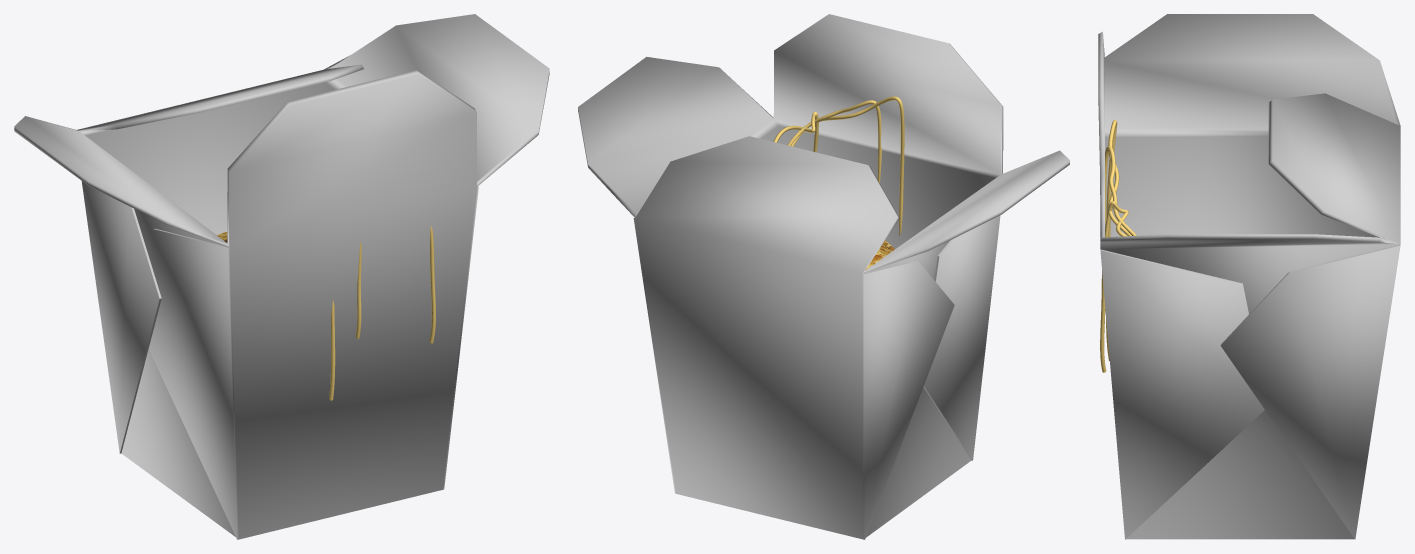
File: NoodleBoxStep.fbx
The picture shows the model from 3 angles, left to right: view 1: azimuth 30°, elevation 25°; view 2: azimuth 150°, elevation 25°; view 3: azimuth 270°, elevation 25°; orthographic projection. The views are drawn at different scales.
Parts seen in each view (by area): view 1: Cube; view 2: Cube, NurbsPath, NurbsPath.001; view 3: Cube, NurbsPath.002, NurbsPath, NurbsPath.001.
Part boxes in pixels (bbox=[...]): Cube: bbox=[14, 14, 549, 539]; Cube: bbox=[578, 14, 1069, 539]; NurbsPath: bbox=[791, 96, 904, 236]; NurbsPath.001: bbox=[787, 100, 881, 183]; Cube: bbox=[1098, 14, 1400, 539]; NurbsPath.002: bbox=[1100, 201, 1128, 372]; NurbsPath: bbox=[1106, 120, 1131, 361]; NurbsPath.001: bbox=[1105, 146, 1136, 310].
Bounding box in the file's own units: 3.73 × 3.39 × 2.16.
